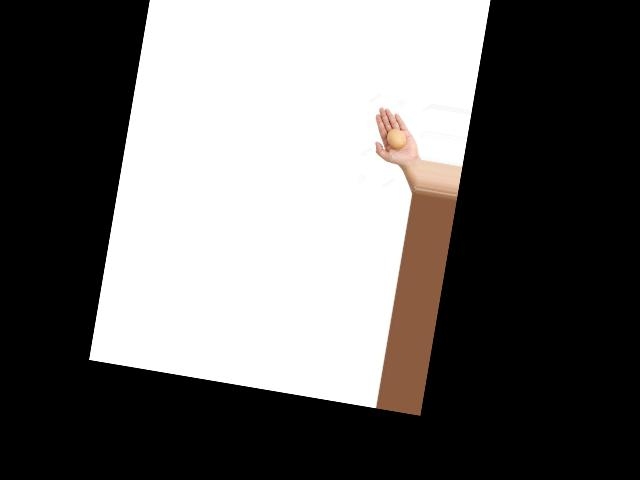egg: (385, 128, 407, 151)
